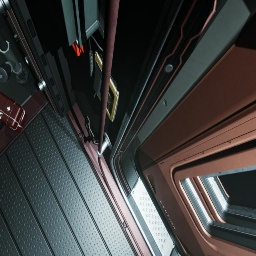EmergencyPhone ,: (88, 35, 122, 122)
FireAlarm ,: (72, 42, 84, 56)
FirstAidBox ,: (0, 91, 27, 133)
